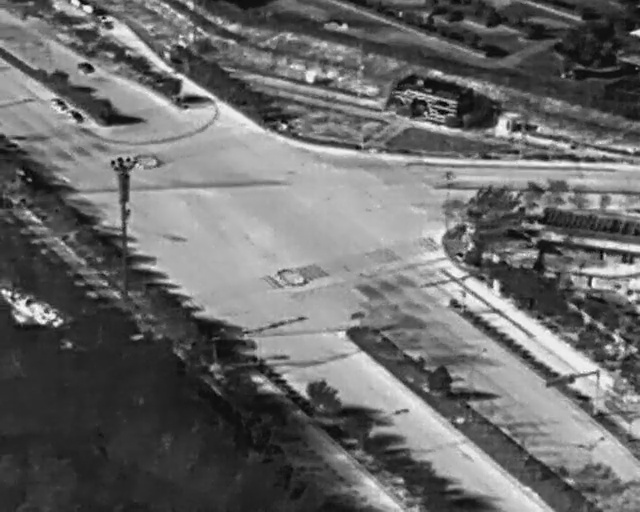Car: (47, 93, 70, 116), (66, 106, 87, 126), (77, 60, 94, 75)
